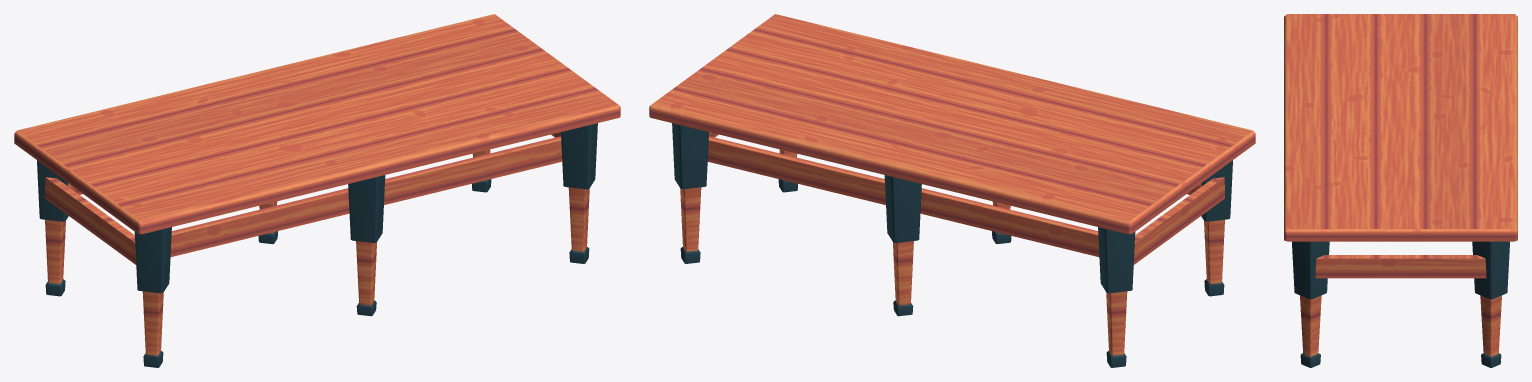
Rendered from TableKitchen.fbx.
The picture shows the model from 3 angles, left to right: view 1: azimuth 30°, elevation 25°; view 2: azimuth 150°, elevation 25°; view 3: azimuth 270°, elevation 25°; orthographic projection. The views are drawn at different scales.
Parts seen in each view (by area): view 1: TableKitchen; view 2: TableKitchen; view 3: TableKitchen.
Boxes of the visible parts, x1,y1,x2,y2 form: TableKitchen: [14, 14, 620, 367]; TableKitchen: [649, 14, 1255, 367]; TableKitchen: [1284, 14, 1517, 367].
Bounding box in the file's own units: 2.94 × 0.9229 × 1.34.
